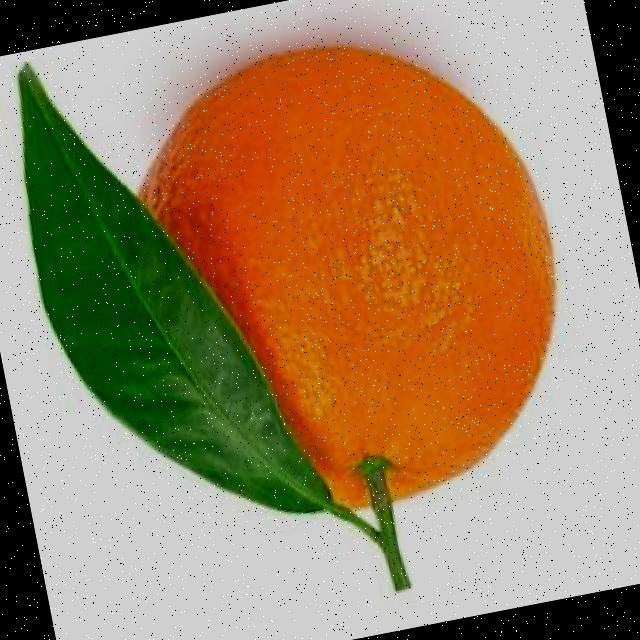orange: (50, 11, 598, 556)
